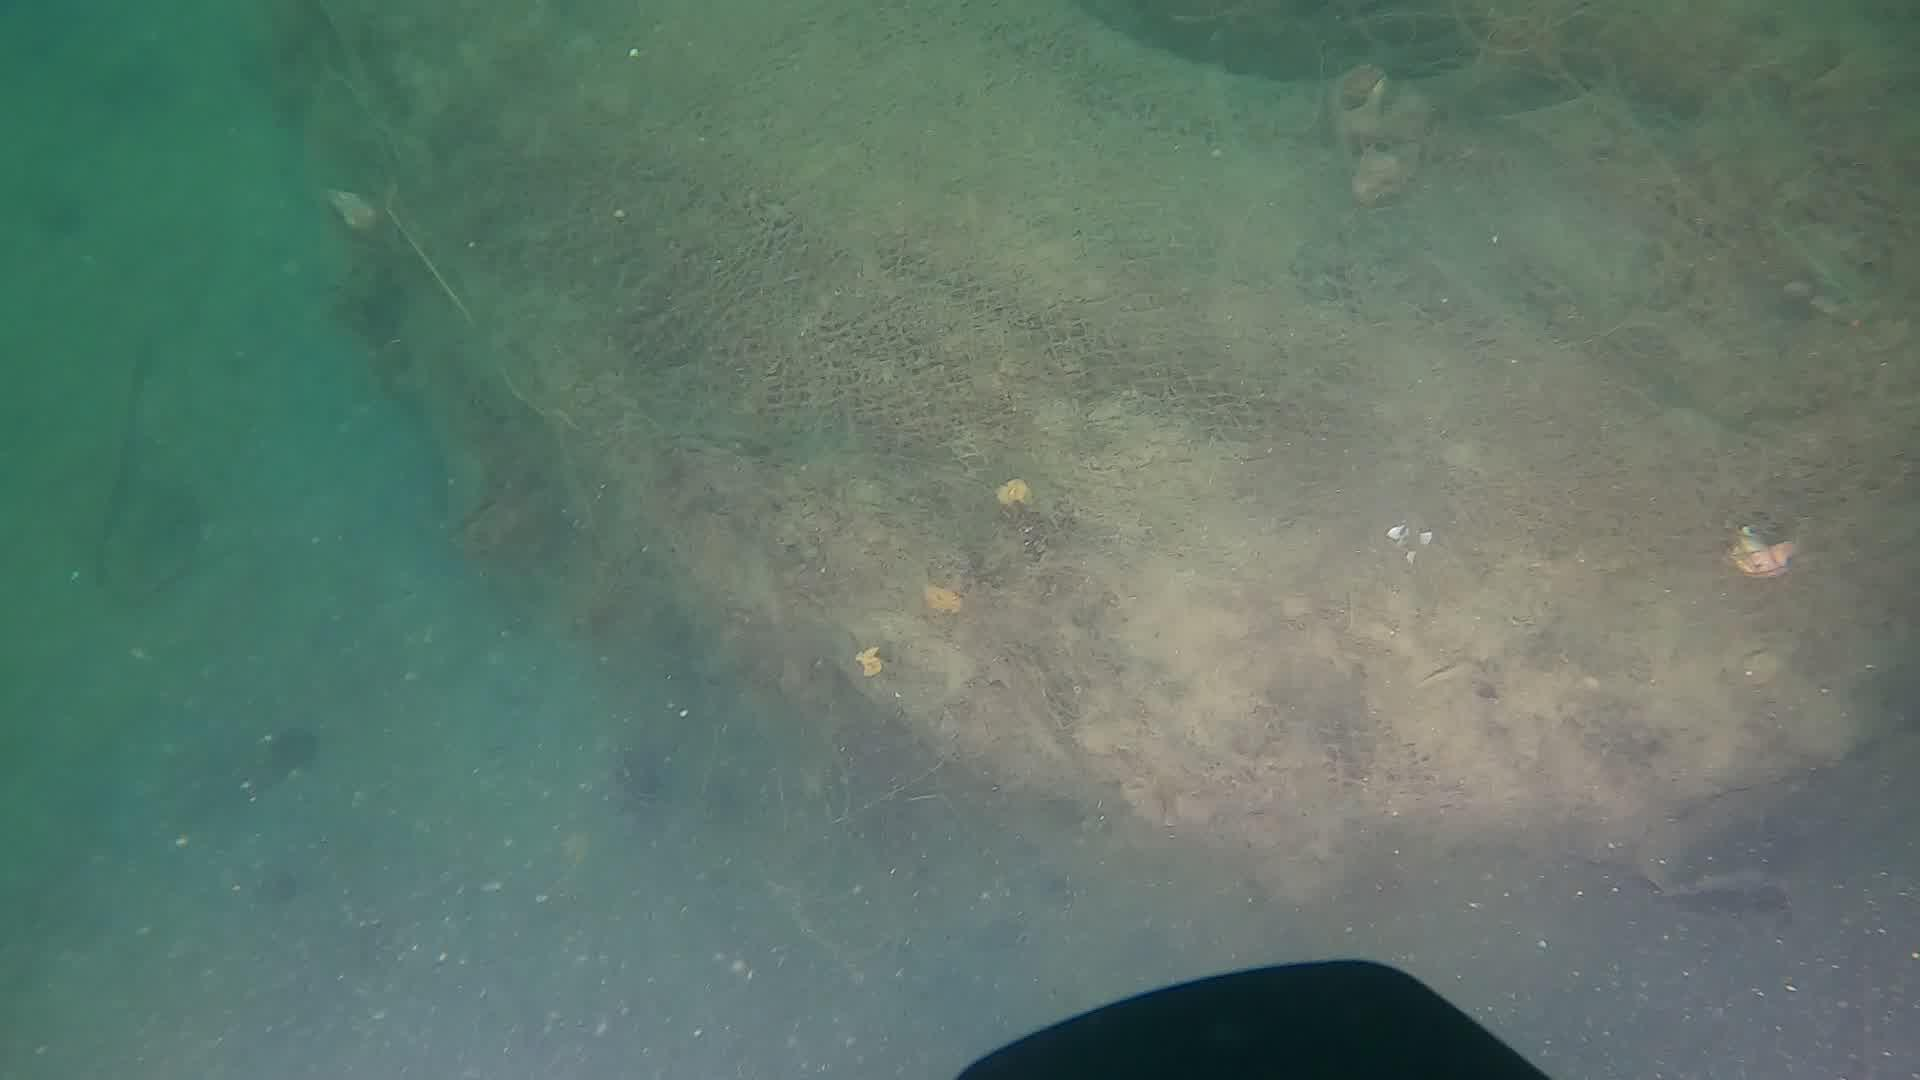fish net: (554, 167, 1273, 473)
tire: (320, 0, 1920, 839)
